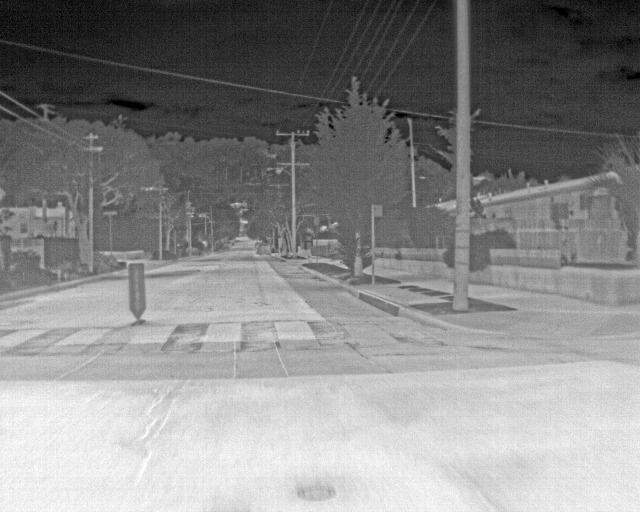car: (254, 241, 270, 256)
